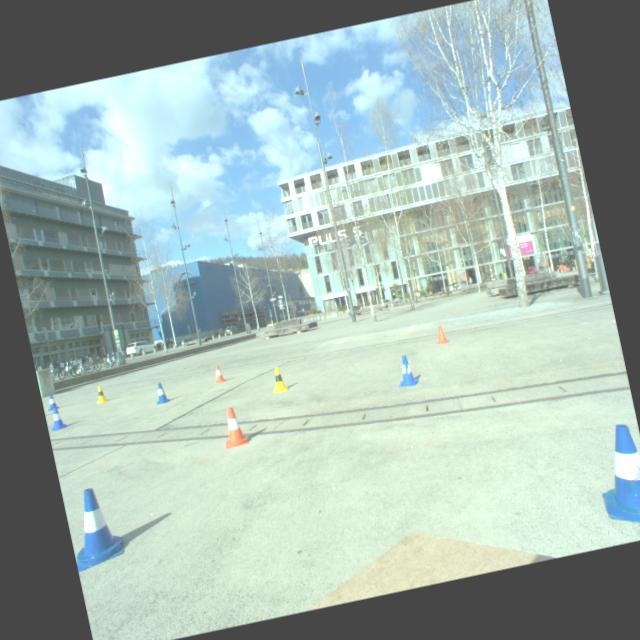blue_cone: (588, 420, 640, 535), (62, 482, 126, 572), (392, 352, 420, 389), (46, 405, 68, 431), (151, 380, 171, 404), (44, 392, 60, 410)
orange_cone: (218, 404, 250, 449), (210, 364, 227, 384), (433, 324, 449, 344)
yellow_cone: (268, 366, 289, 394), (92, 385, 108, 404)
